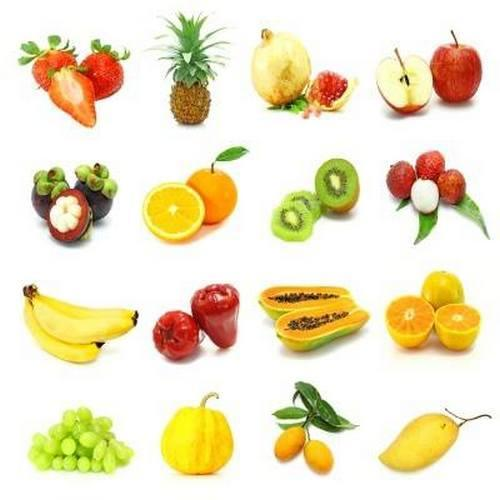apple: (430, 42, 482, 103)
